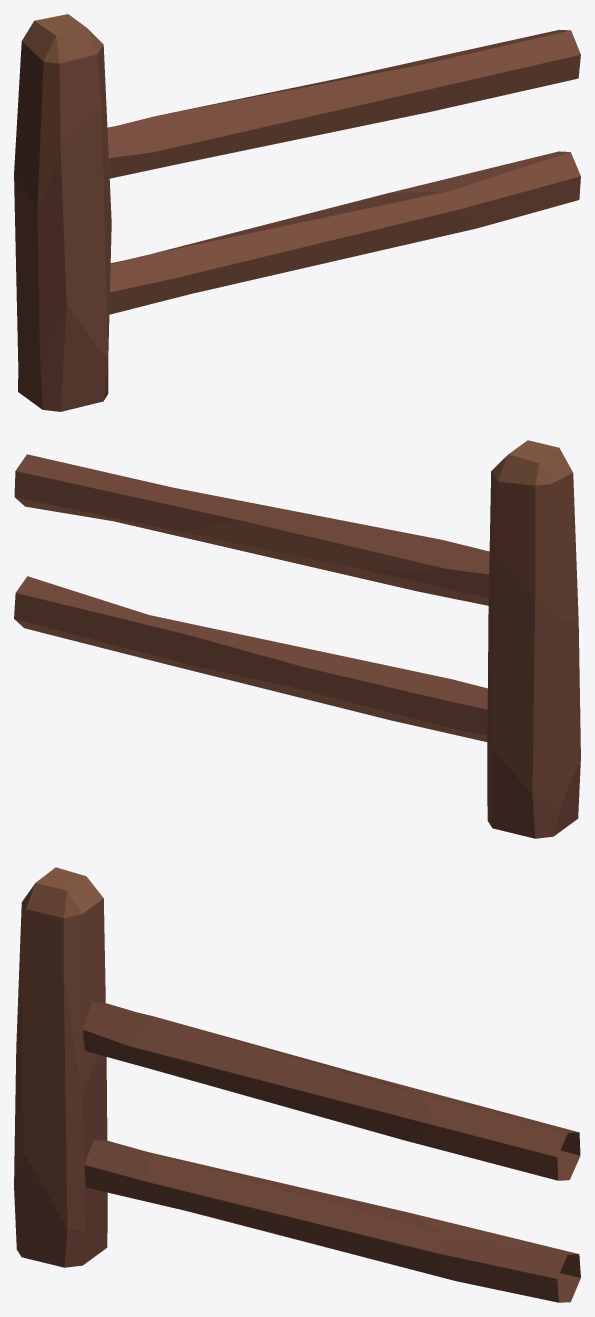
File: fence_log_half.fbx
3 renders of one model, top to bottom at view 1: azimuth 30°, elevation 25°; view 2: azimuth 150°, elevation 25°; view 3: azimuth 330°, elevation 25°, orthographic.
Visible parts, largest first — view 1: fence_log_half; view 2: fence_log_half; view 3: fence_log_half.
Part boxes in pixels (<box>): fence_log_half: <box>14,14,580,411</box>; fence_log_half: <box>14,440,580,838</box>; fence_log_half: <box>14,867,580,1302</box>.
Bounding box in the file's own units: 109 × 70.55 × 14.4.
